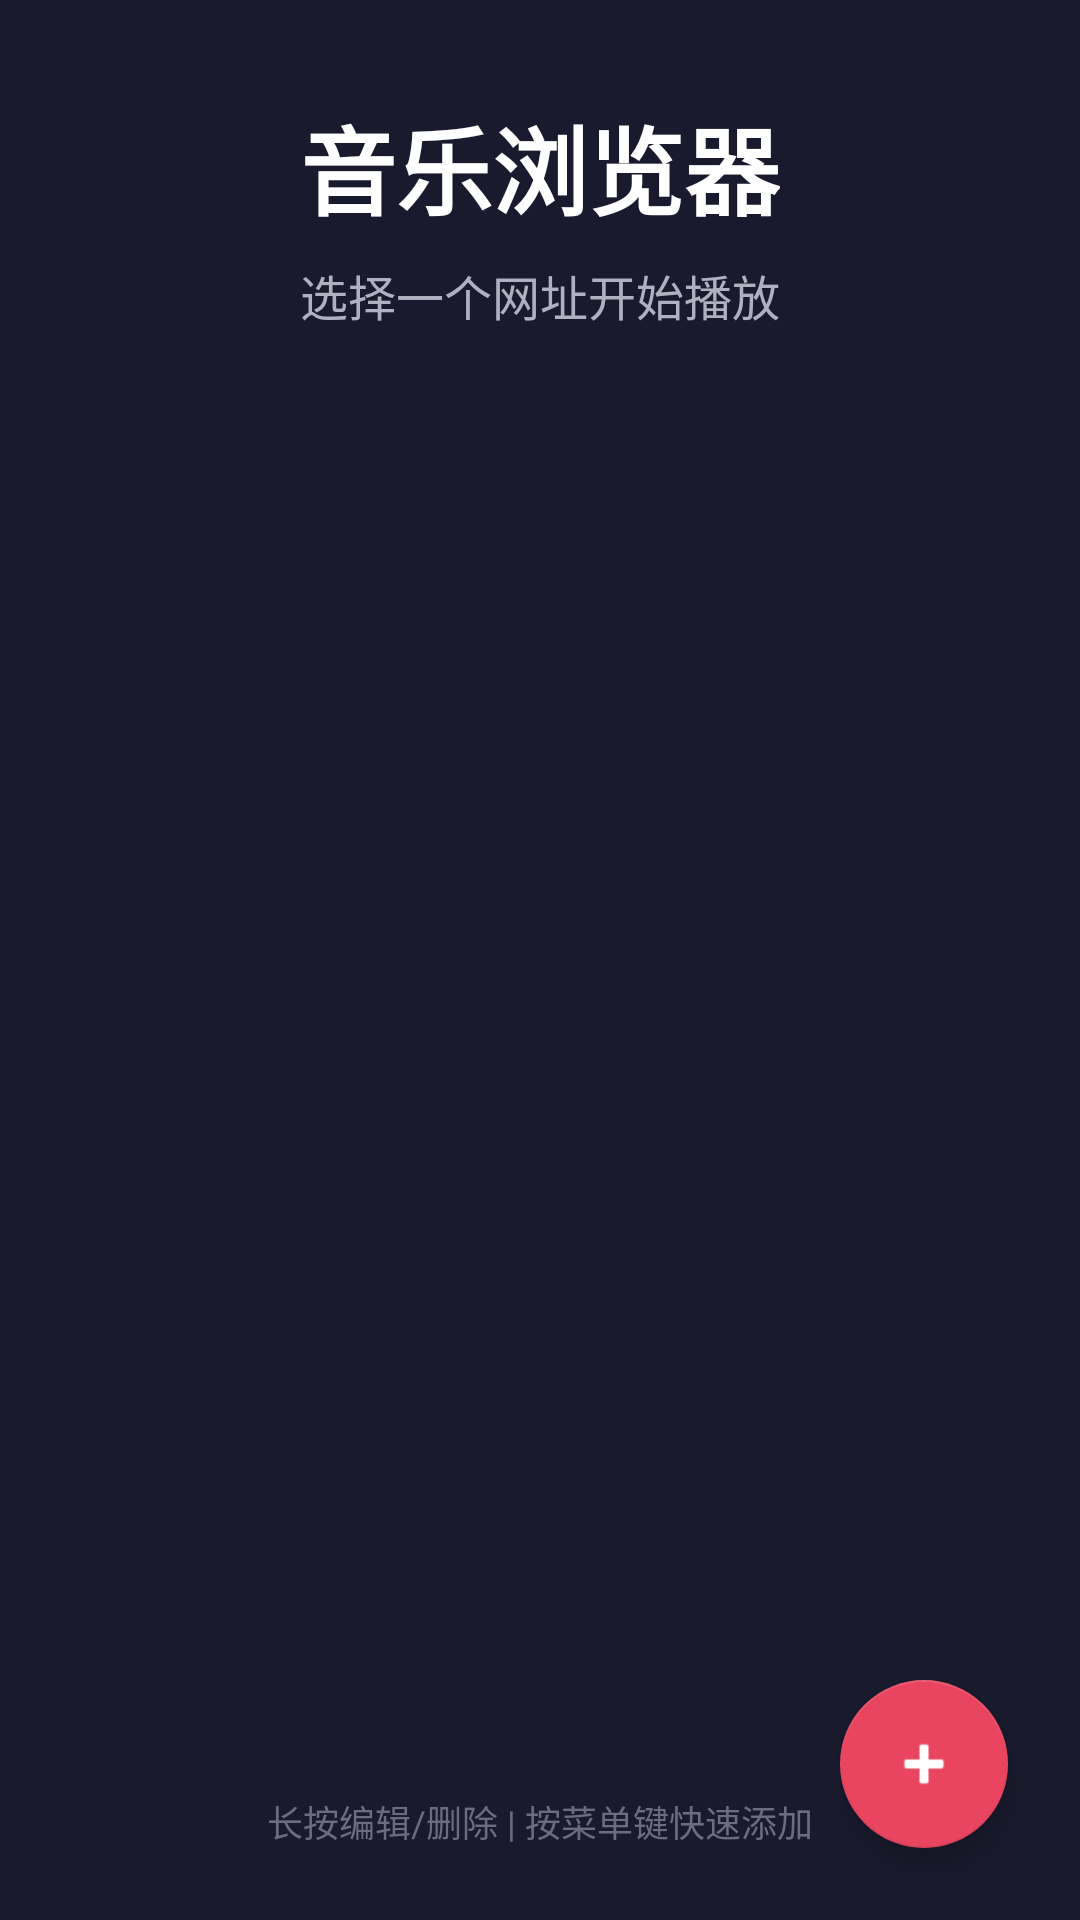

Point at icon controls on the screen. Image size 1080×1920, points as [x,y].
添加网址: [924,1764]
